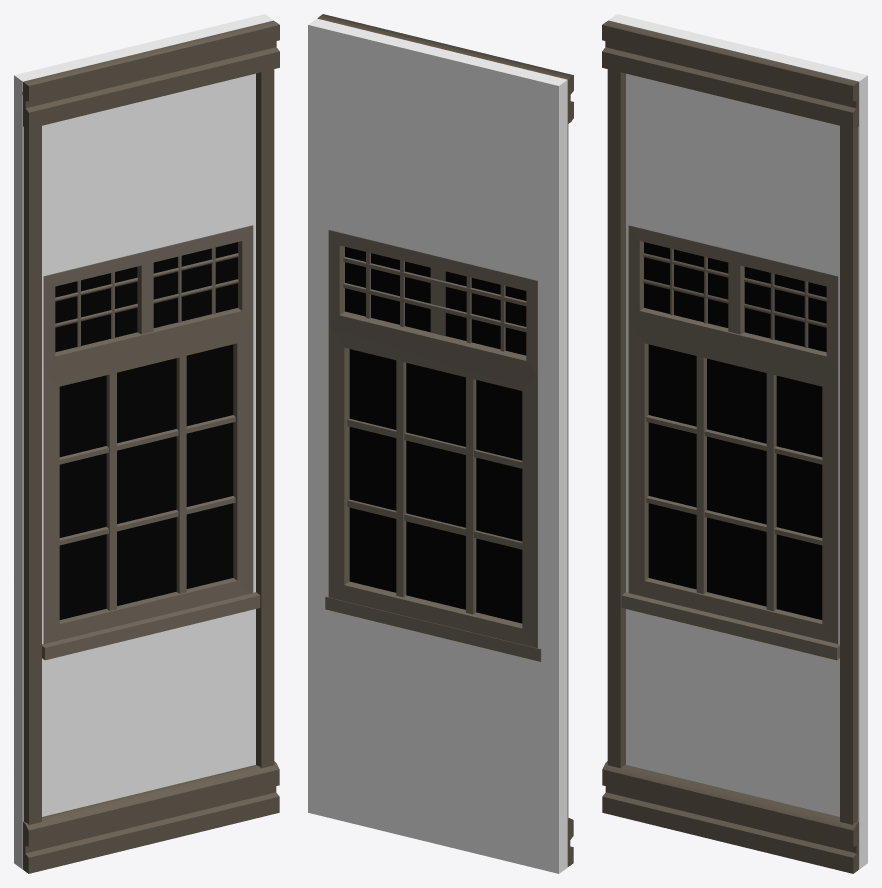
Rendered from WINDOW_04_1.fbx.
3 renders of one model, left to right at view 1: azimuth 30°, elevation 25°; view 2: azimuth 150°, elevation 25°; view 3: azimuth 330°, elevation 25°, orthographic.
Visible parts, largest first — view 1: WINDOW_04_1; view 2: WINDOW_04_1; view 3: WINDOW_04_1.
Boxes of the visible parts, x1,y1,x2,y2 form: WINDOW_04_1: (14, 14, 279, 873); WINDOW_04_1: (308, 14, 573, 873); WINDOW_04_1: (602, 14, 867, 873).
Size of the model in its own units: 100 by 300 by 10.68.
